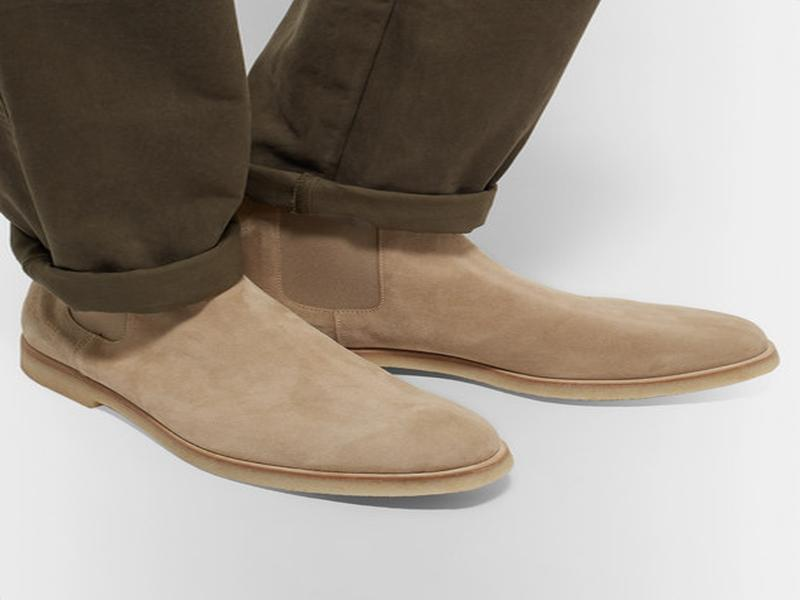shoes_men_chelsea_chelseaboots_suede_none_none_beige_none: (14, 265, 520, 511), (246, 202, 797, 407)
